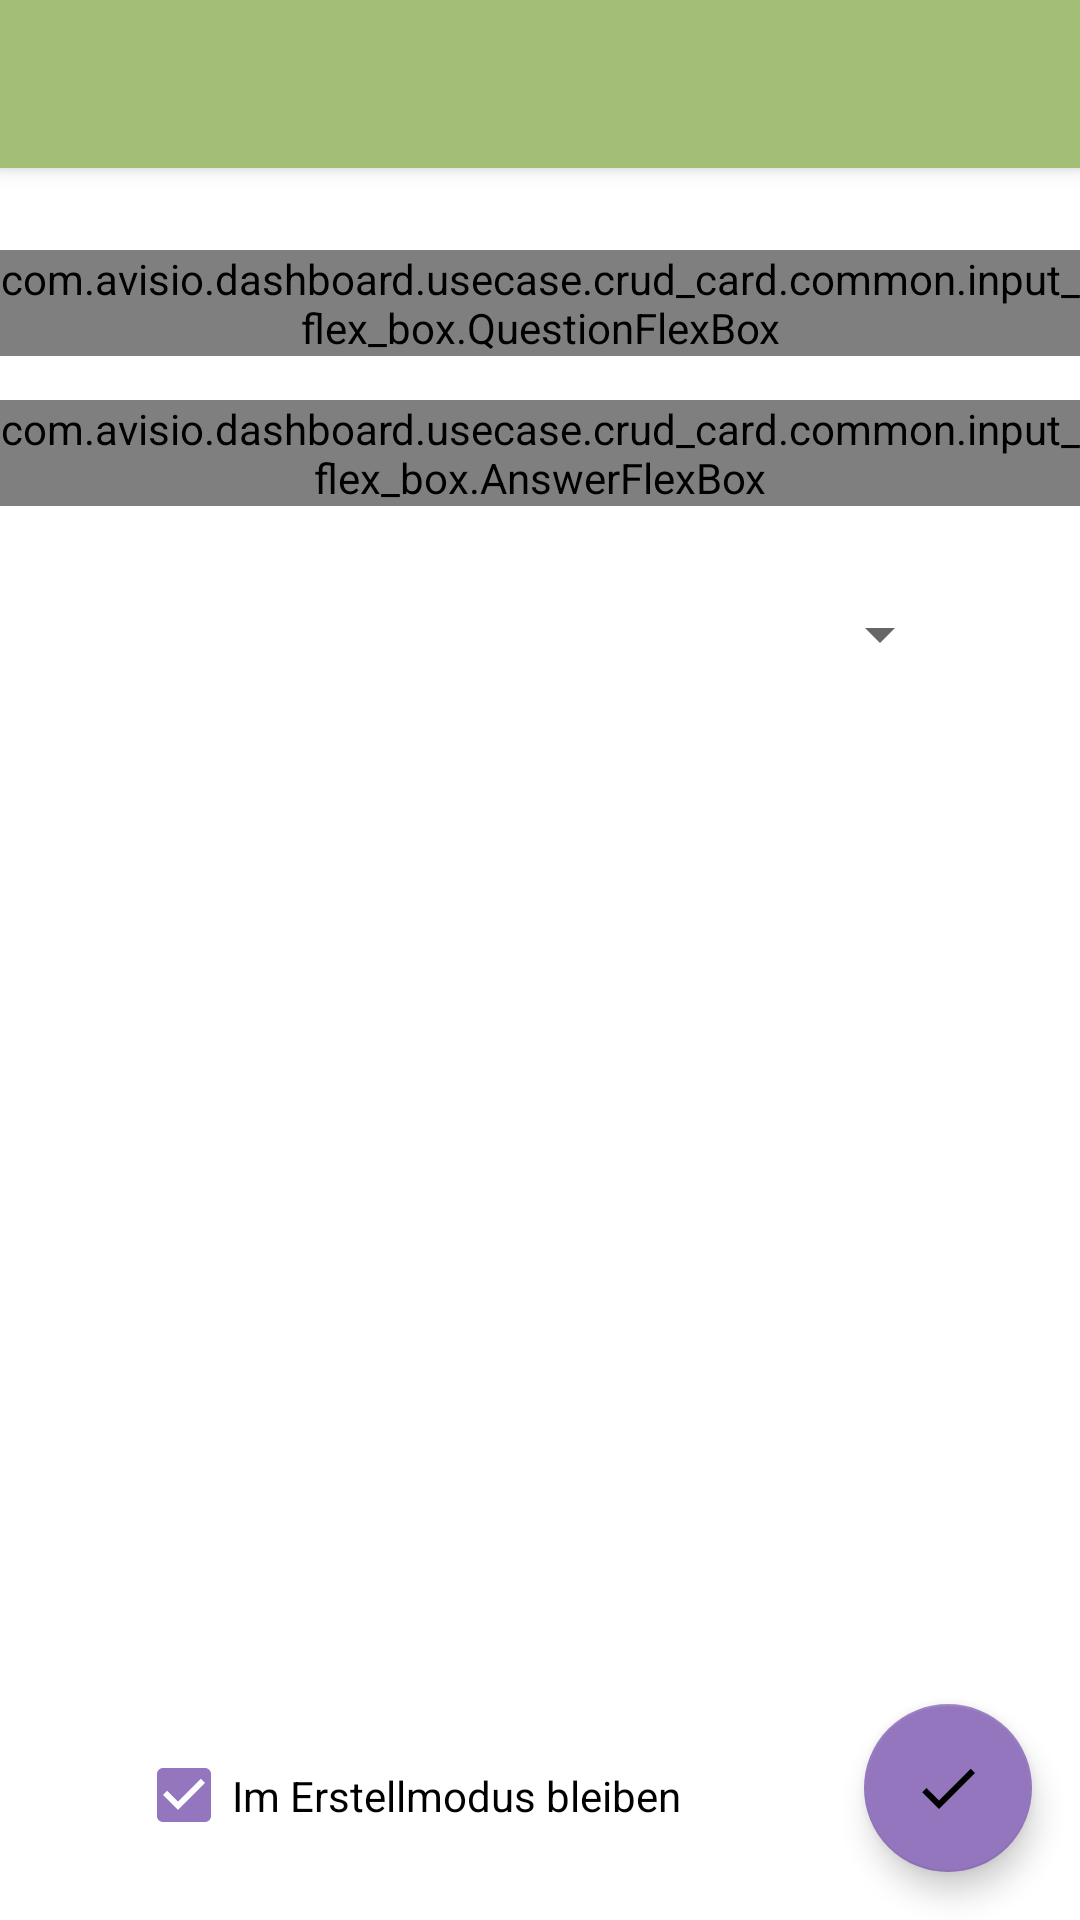

Screen size 1080*1920. Icon name, then its center in pixels as (x,y):
Karte speichern: (948,1788)
